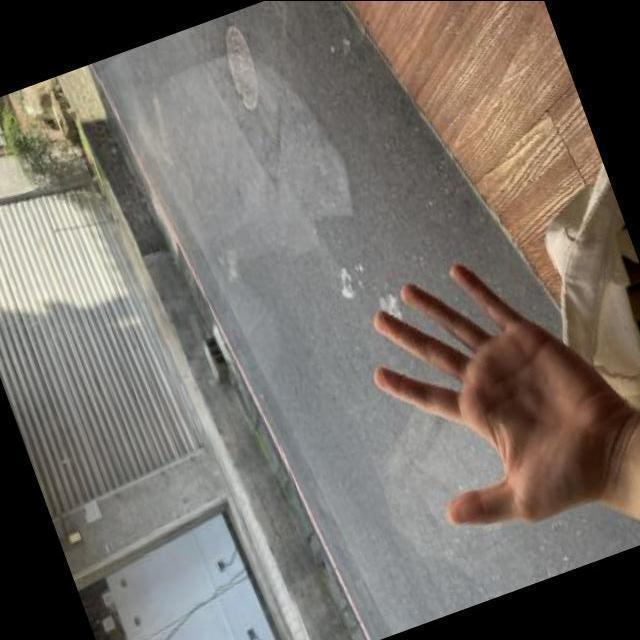hand: (330, 203, 640, 575)
